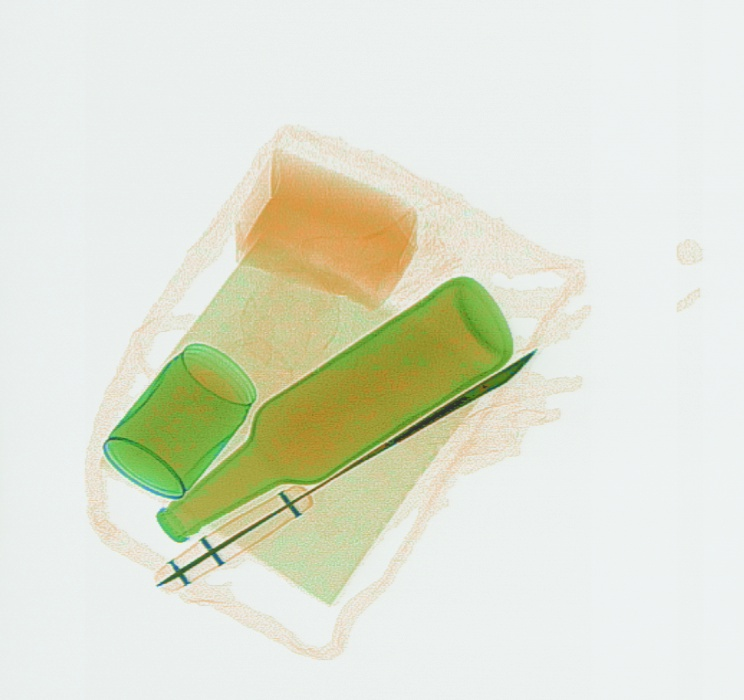knife: (151, 342, 540, 595)
